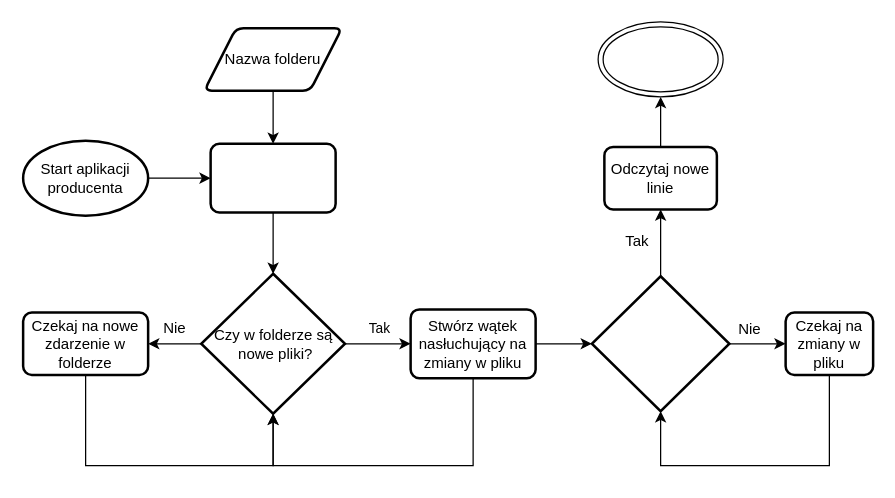
Image size: 895x498. Some labels were removed from this diagram. Each missing label, with the centre of its shape:
Czy do pliku zostały dodane nowe linie?: (660,343)
Stwórz wątek nasłuchujący na folder: (272,177)
Wyślij dane: (660,59)
